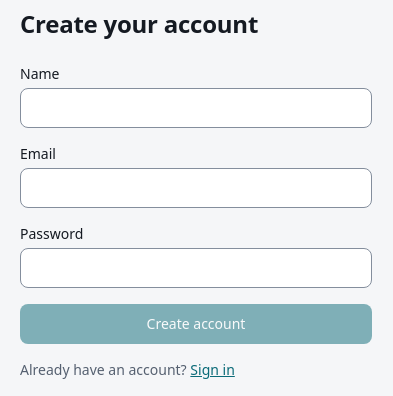
Test: RegisterPage › shows a calm "self sign-up is off" state when the server refuses registration
Type "Ada" into the field labelled "Name" at (196, 108), box [20, 88, 372, 128]
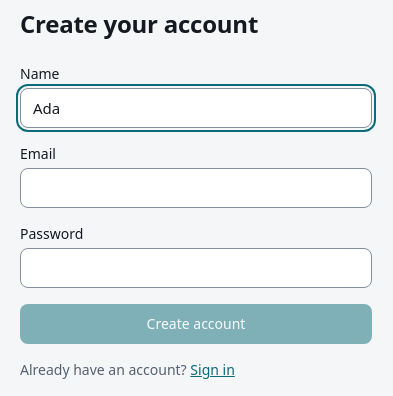
Type "ada@x.test" into the field labelled "Email" at (196, 188), box [20, 168, 372, 208]
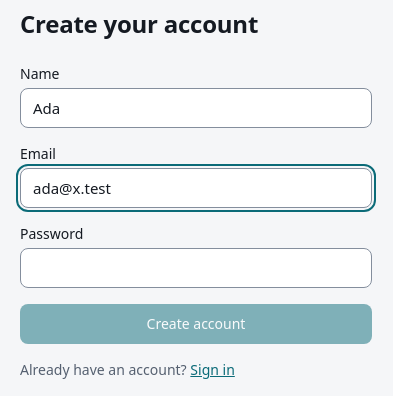
Type "Longenough1" into the password field labelled "Password" at (196, 268), box [20, 248, 372, 288]
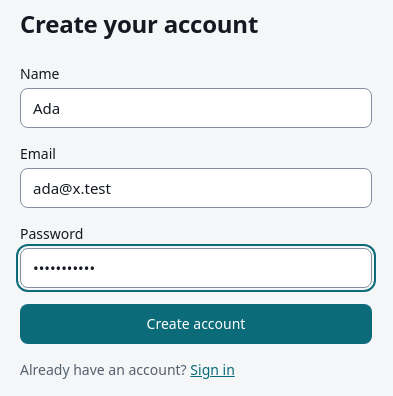
Click the button "Create account" at (196, 324), box [20, 304, 372, 344]
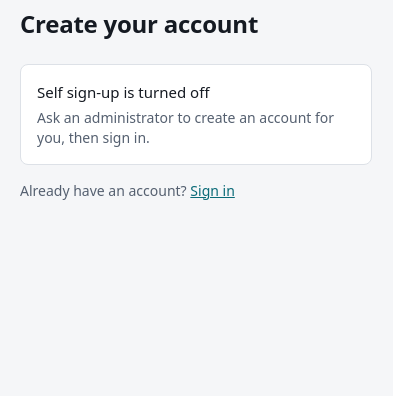
Expected: the text "Self sign-up is turned off" is shown, [37, 82, 210, 102]
Expected: the label labelled "Email" is gone
